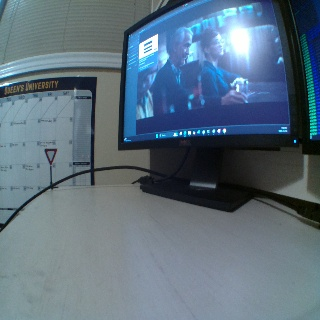sign_yield: (43, 148, 58, 164)
